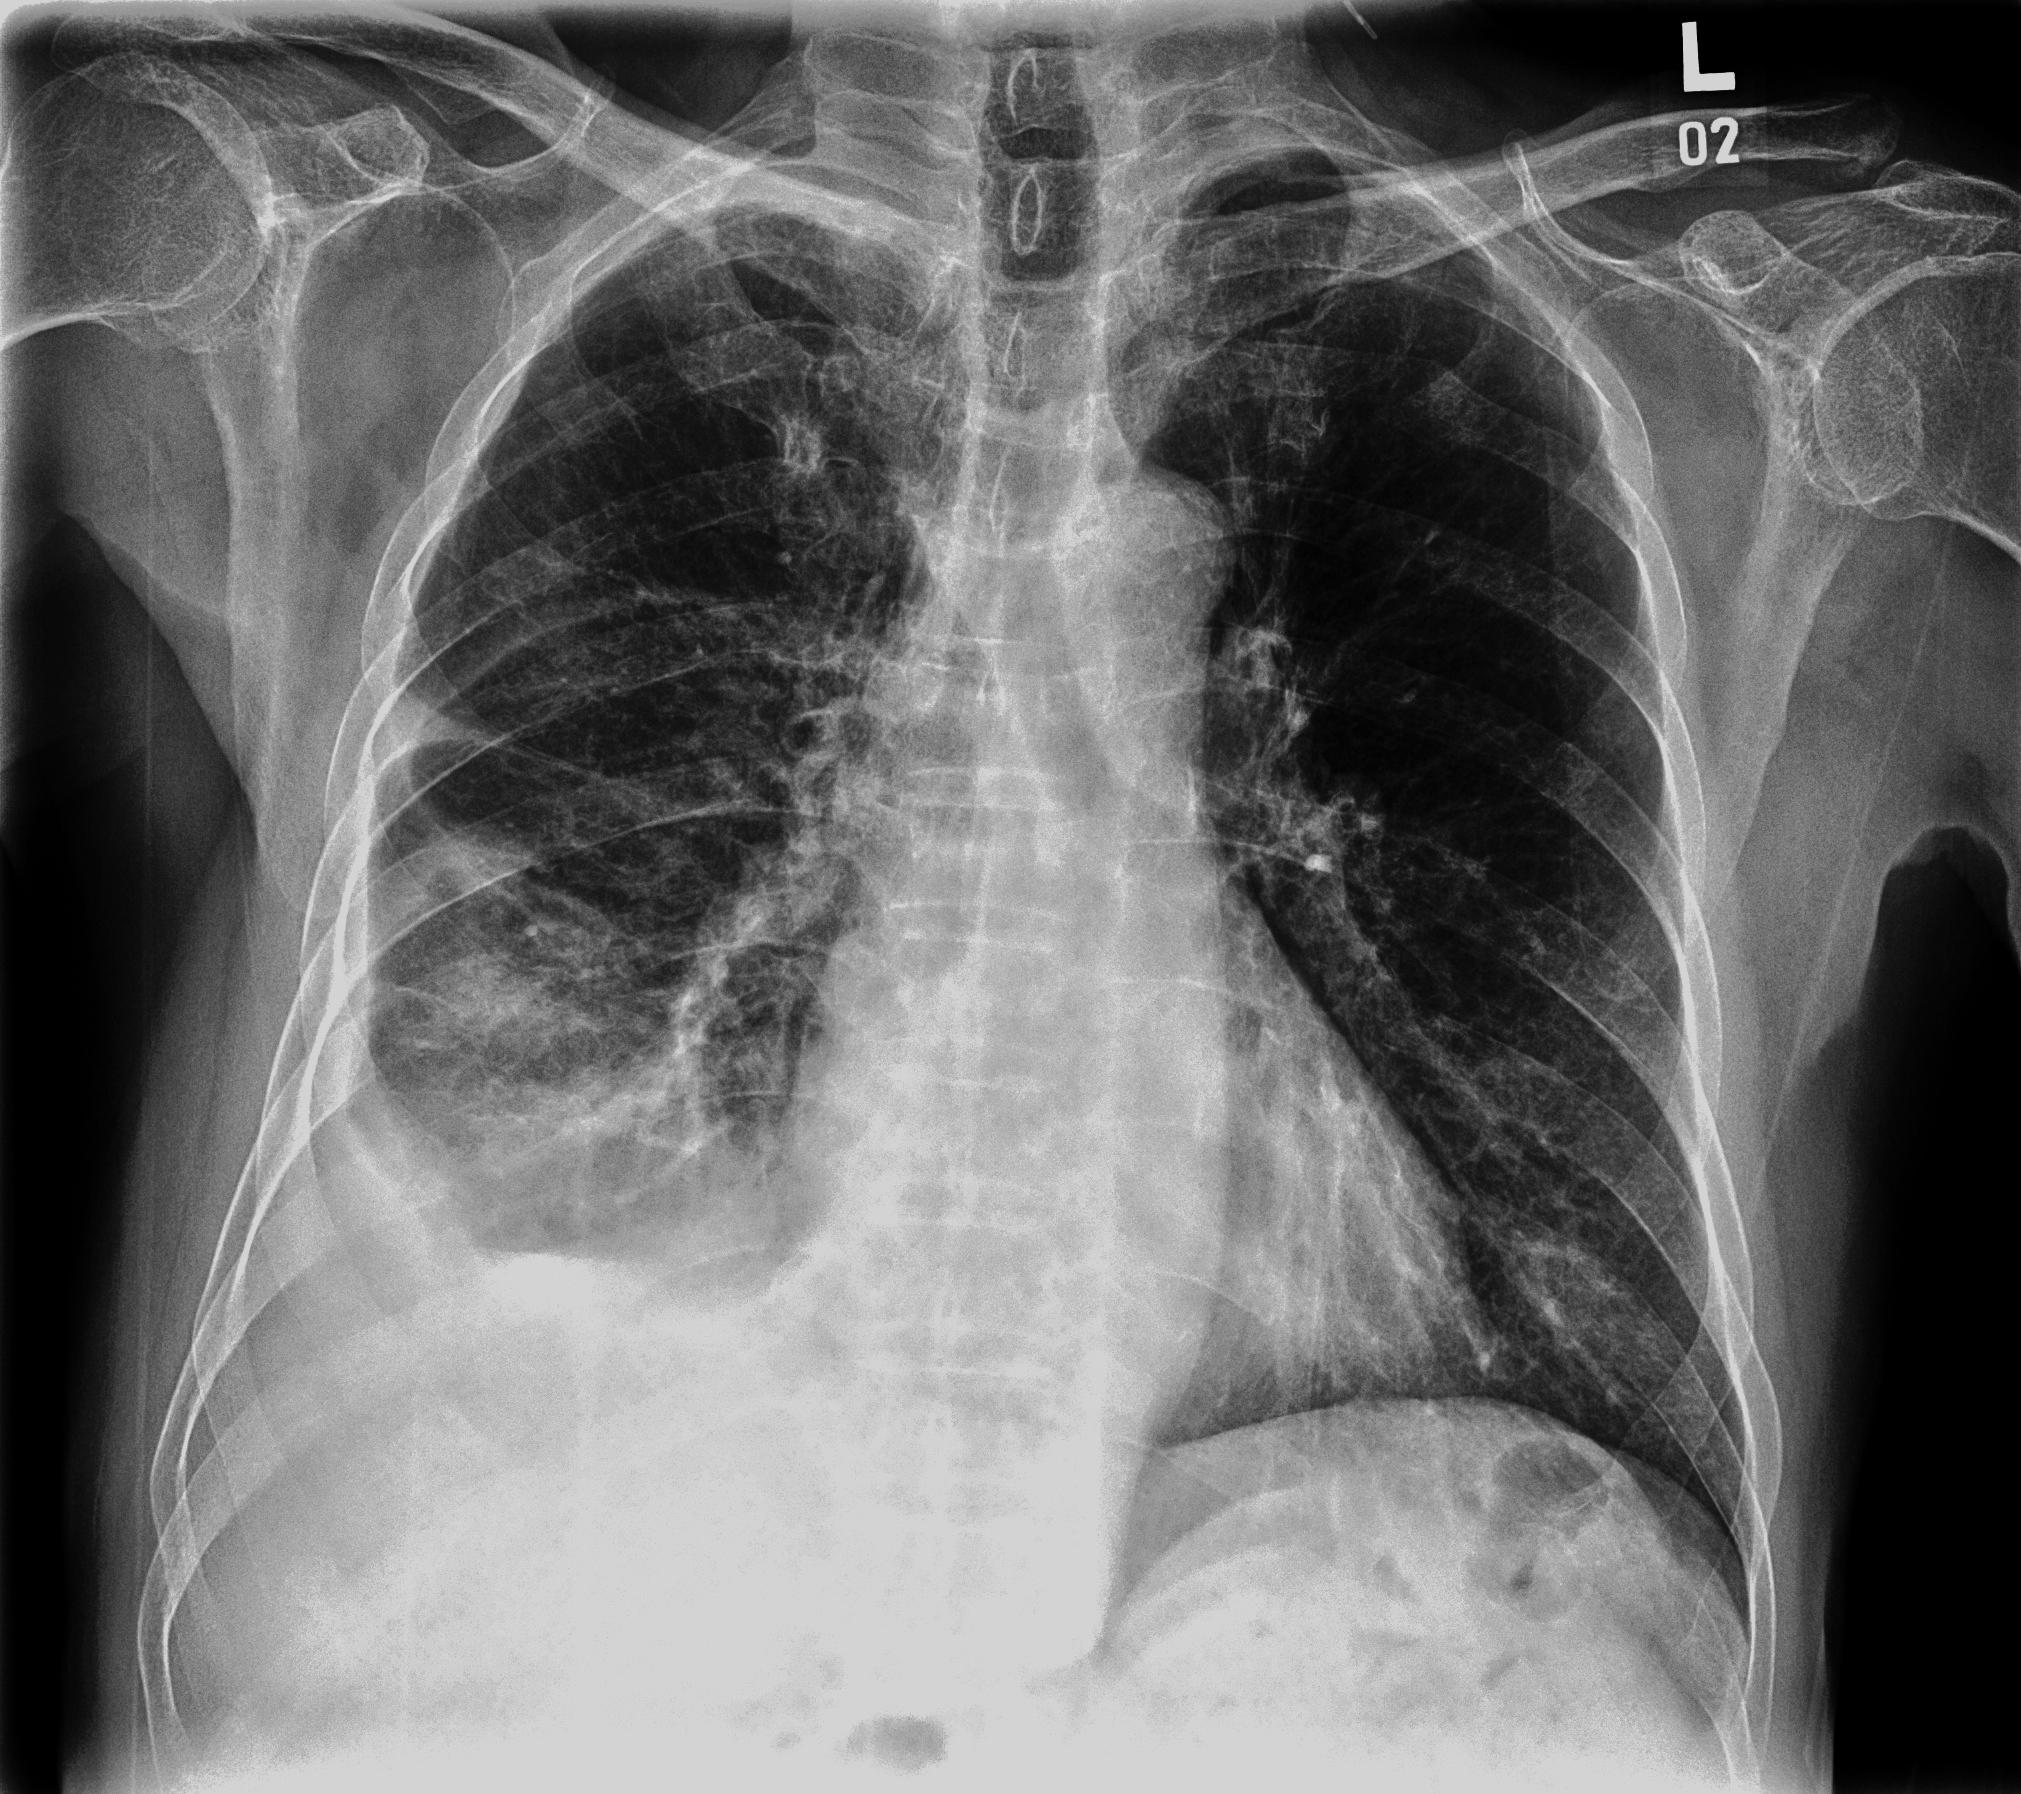Pleural Effusion: (184, 1105, 636, 1500)
